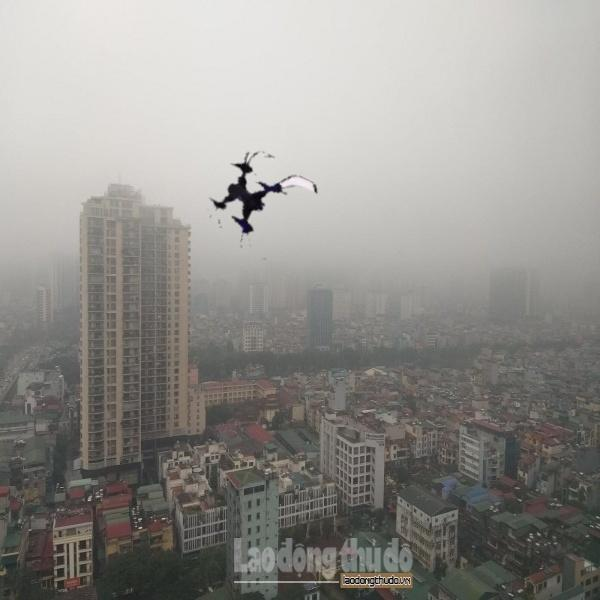drone: (203, 150, 315, 262)
